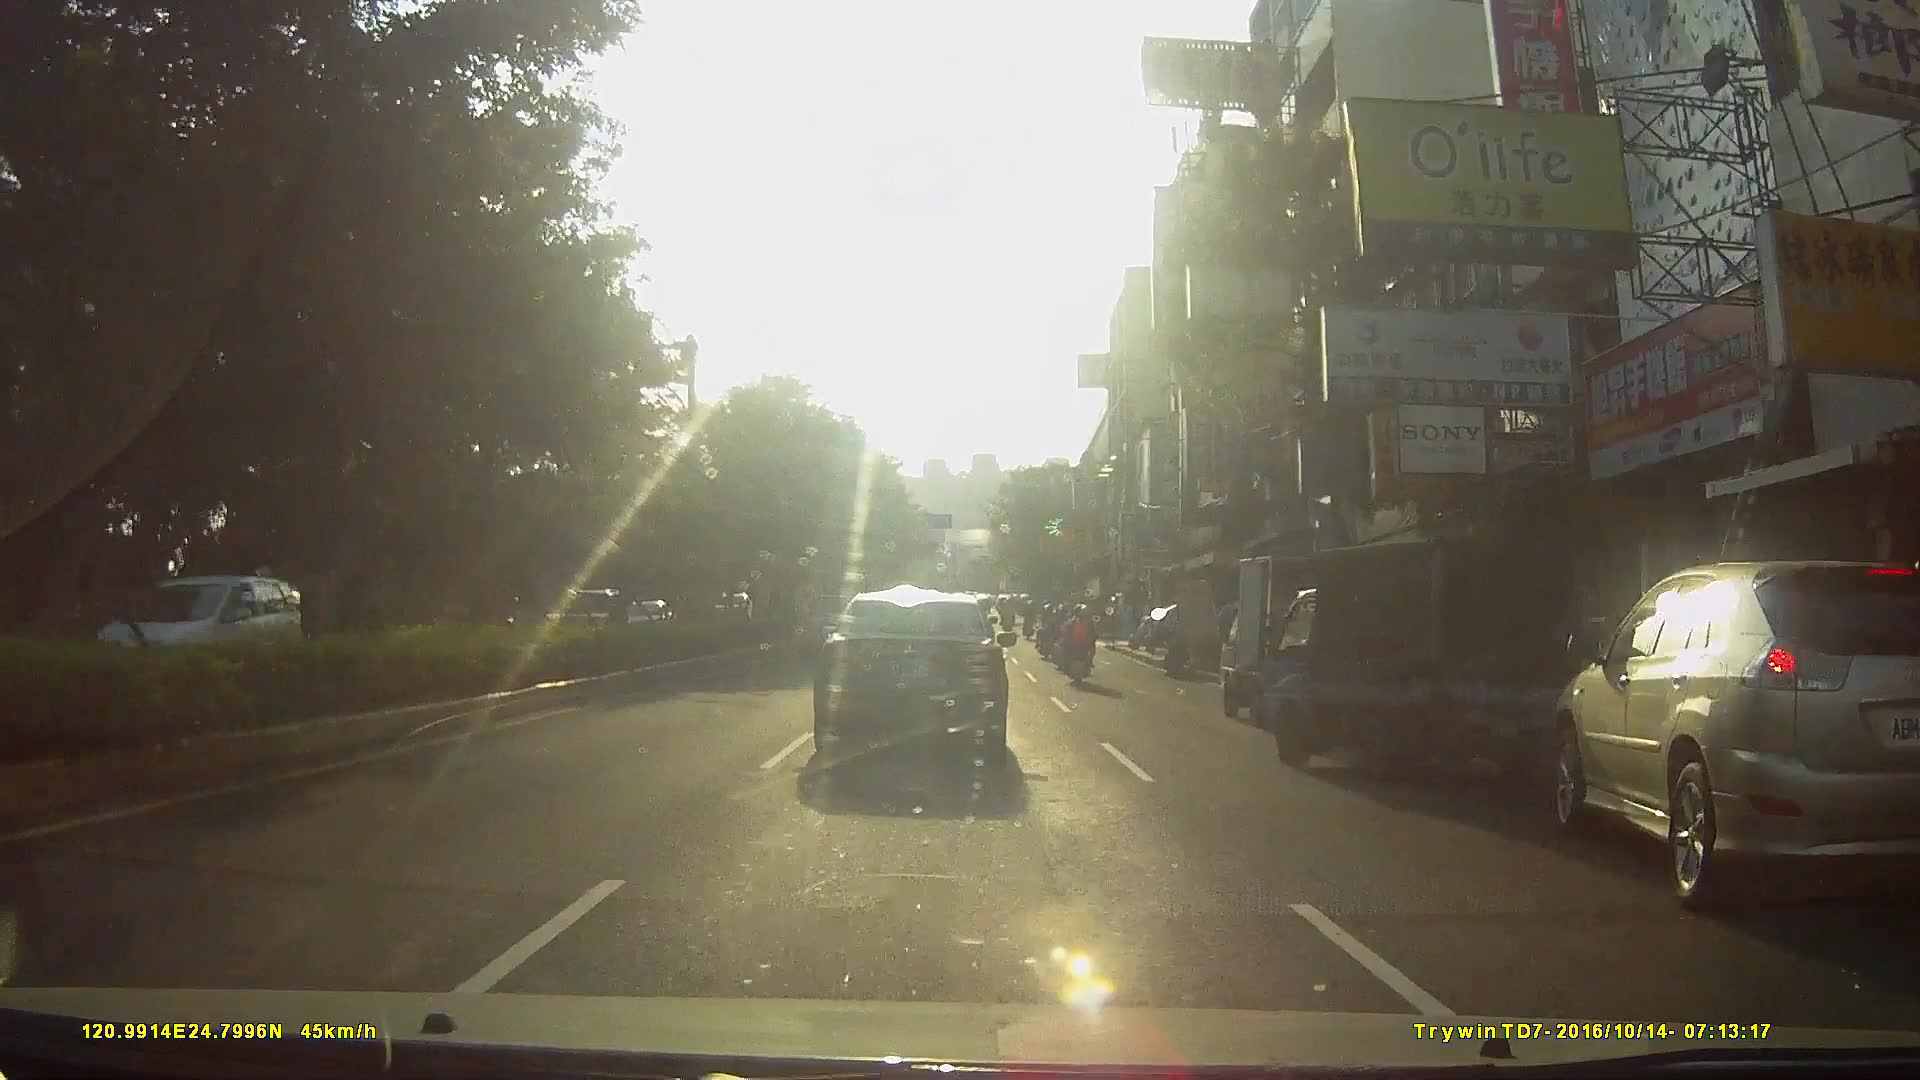rider: (1056, 607, 1099, 696), (1037, 606, 1059, 663)
vehicle: (1530, 550, 1920, 911), (1264, 525, 1628, 807), (811, 589, 1030, 780), (1208, 550, 1411, 732), (89, 572, 318, 683)
